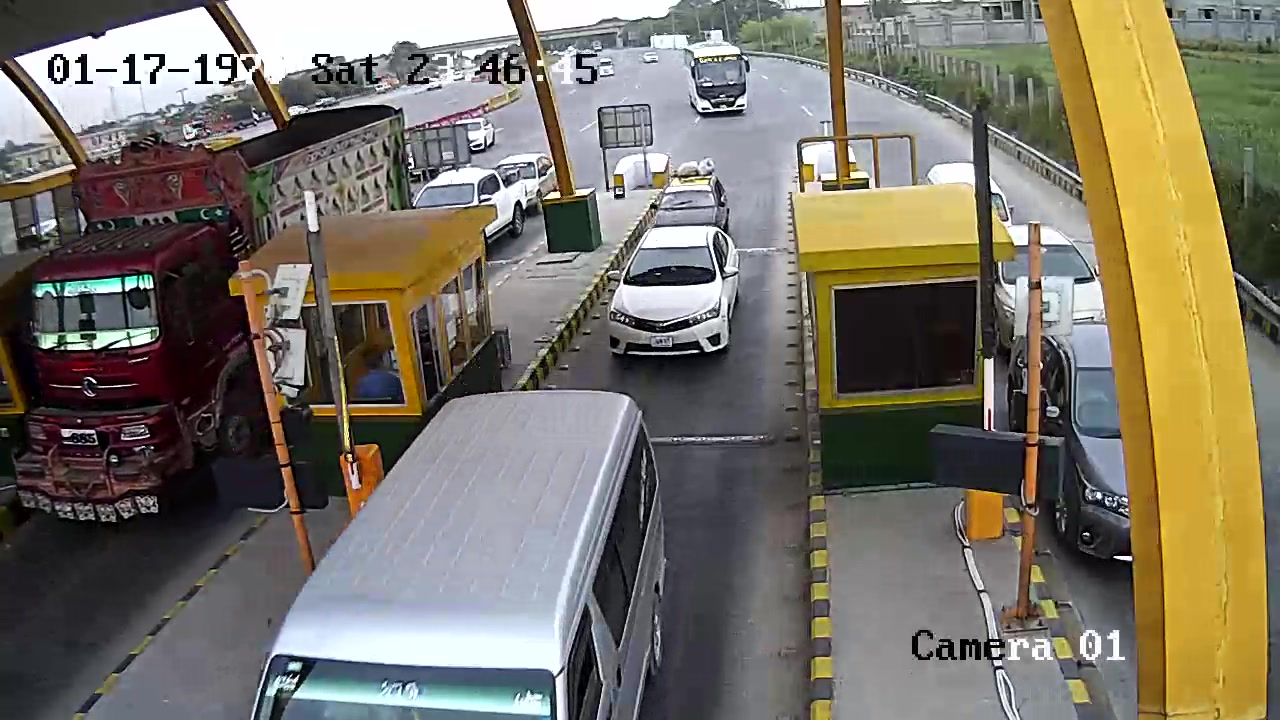F1: (592, 223, 760, 364)
